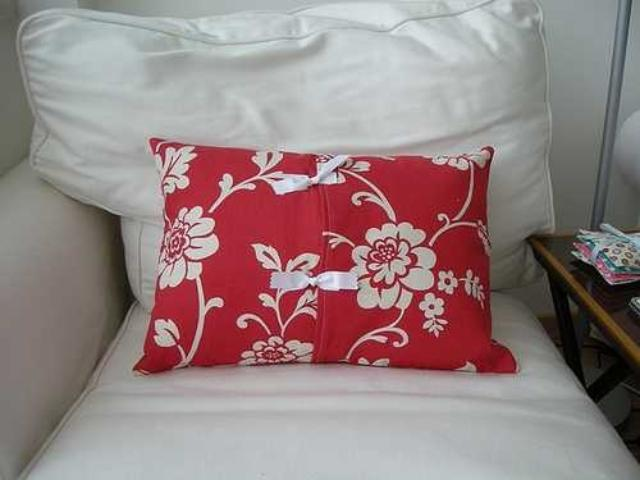pillow: (14, 1, 556, 308), (129, 136, 519, 376)
